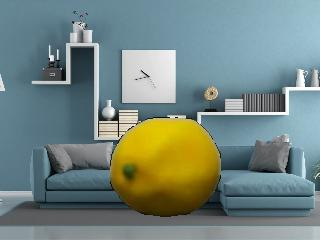lemon: (105, 112, 224, 221)
